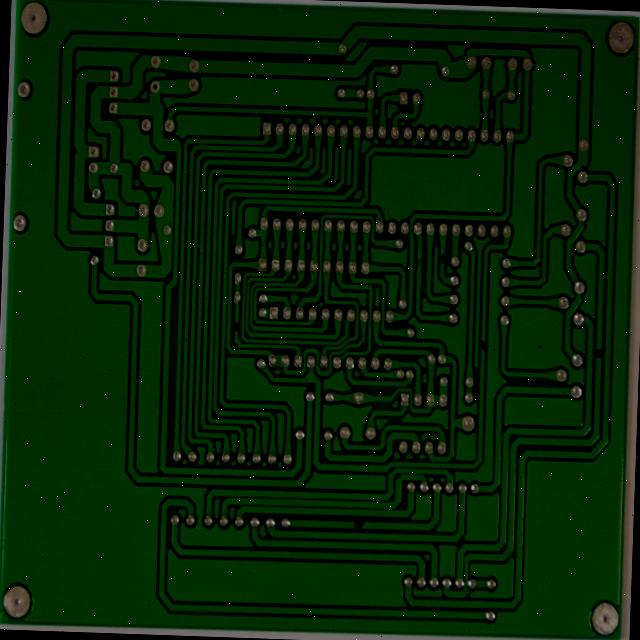open_circuit: (591, 308, 603, 334), (331, 506, 351, 519), (470, 303, 478, 328), (425, 210, 435, 228), (206, 285, 216, 303)
